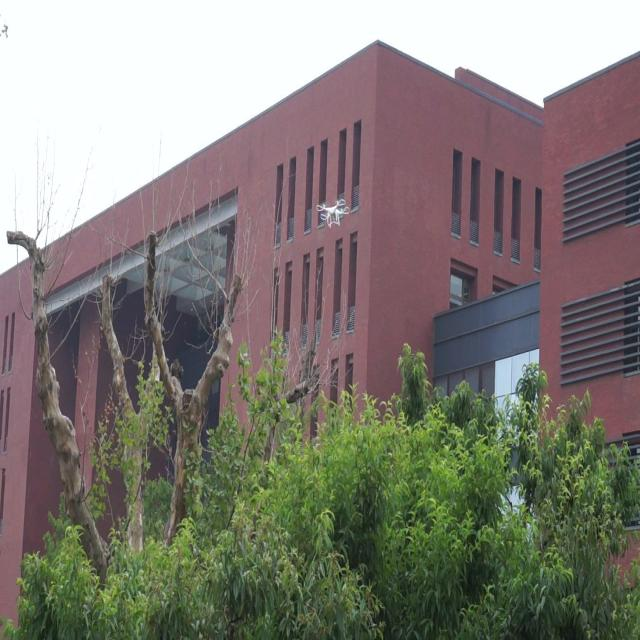drone: (316, 194, 351, 235)
